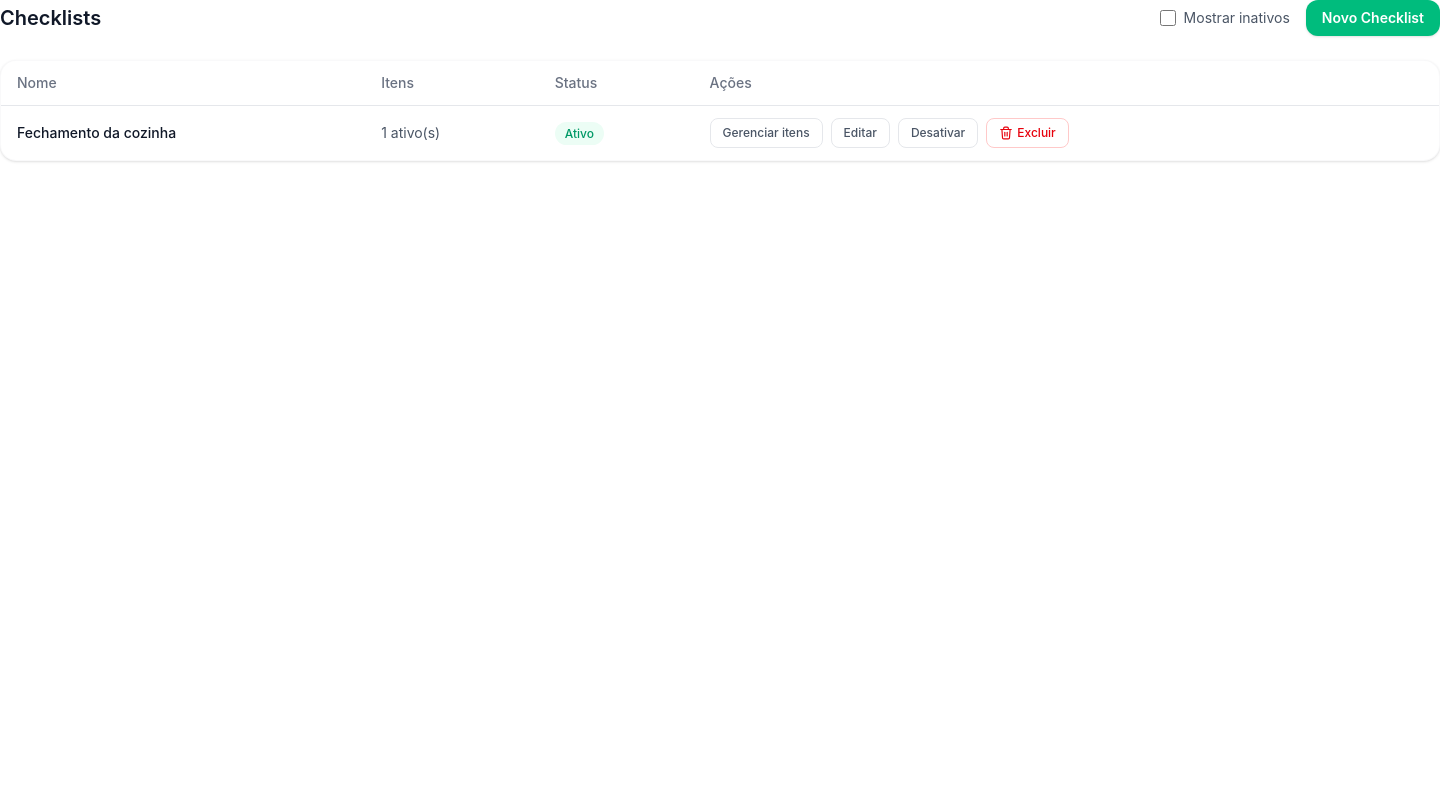
Scenario: ChecklistTemplatesPage › mostra o erro da API se a exclusão falhar
Click the button "Excluir" at x=1028, y=133, box x1=986 y1=118 x2=1069 y2=148
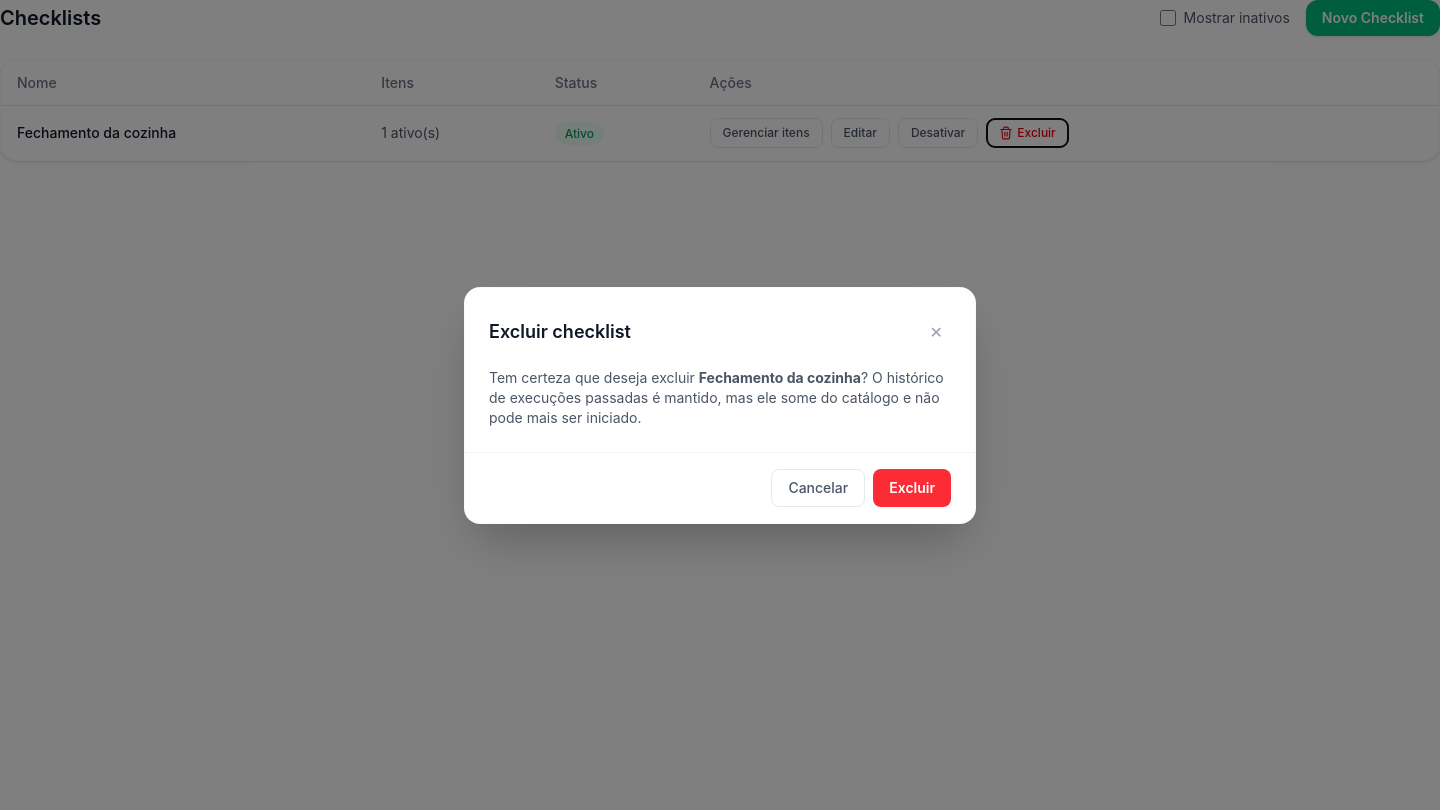
Click the button "Excluir" at x=912, y=488, box x1=873 y1=468 x2=951 y2=506
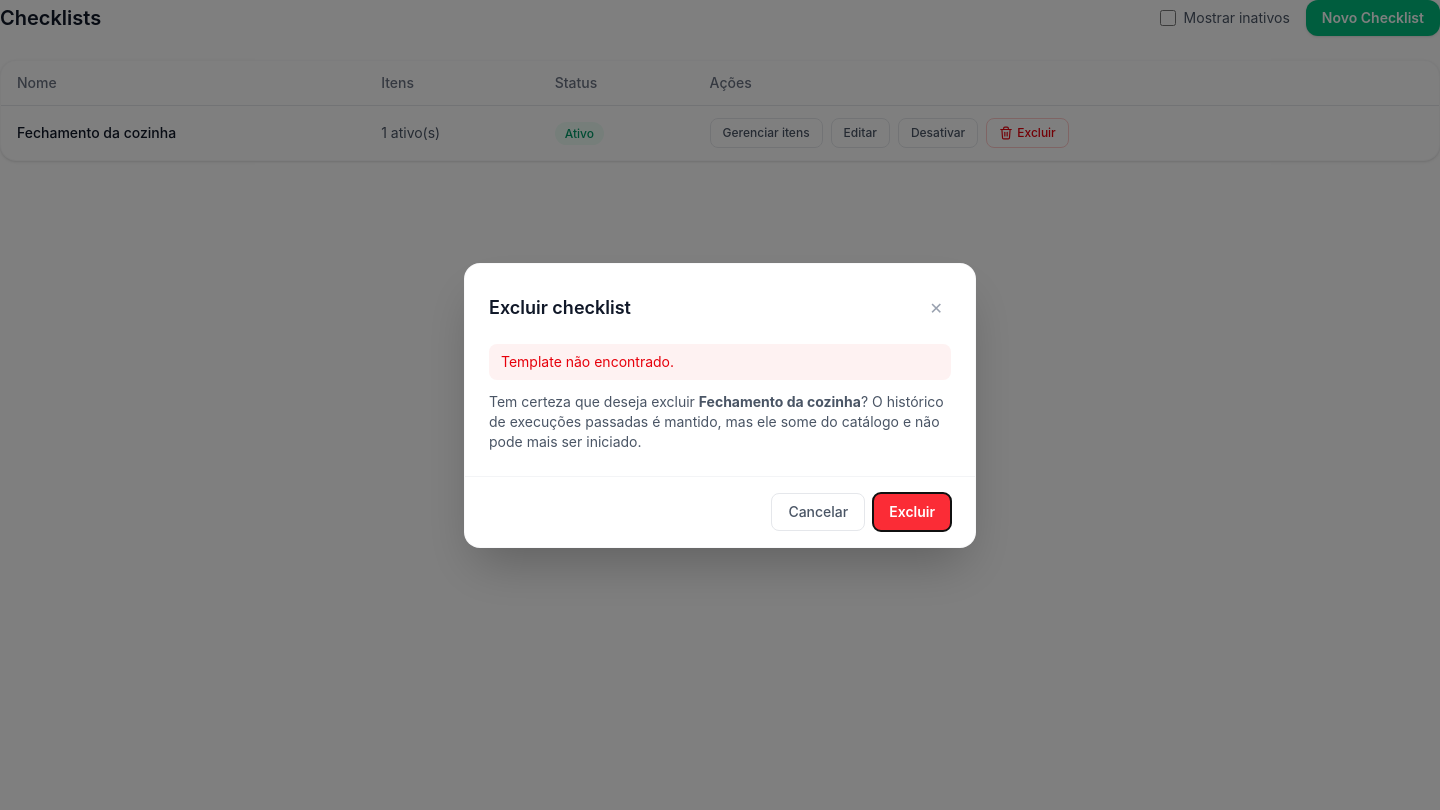
Now the message shows "não encontrado", box x1=501 y1=352 x2=674 y2=370
